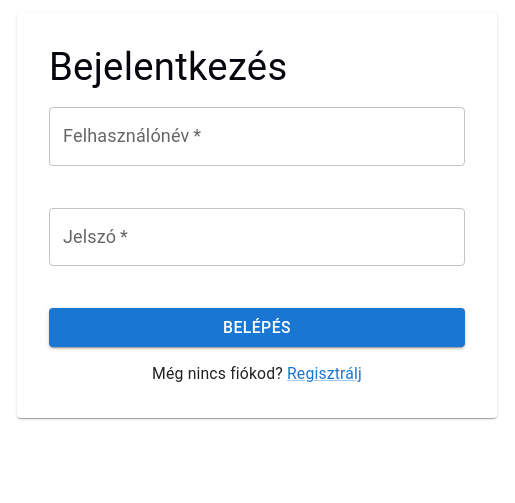
Test: Login oldal › üres error message esetén alapértelmezett hibaüzenetet jelenít meg
In the field named "username": [257, 137] box [49,107,465,166], type "wronguser"
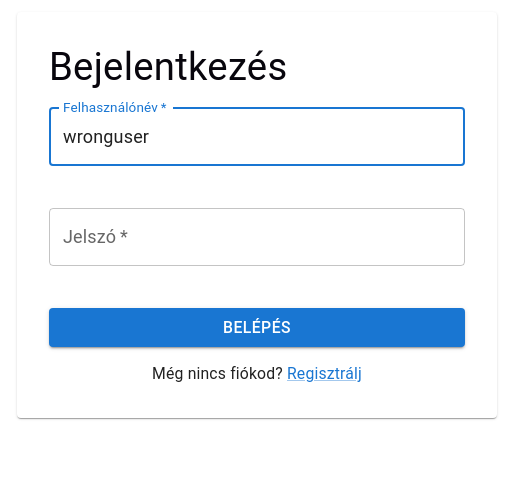
In the password field named "password": [257, 237] box [49,208,465,266], type "wrongpass"
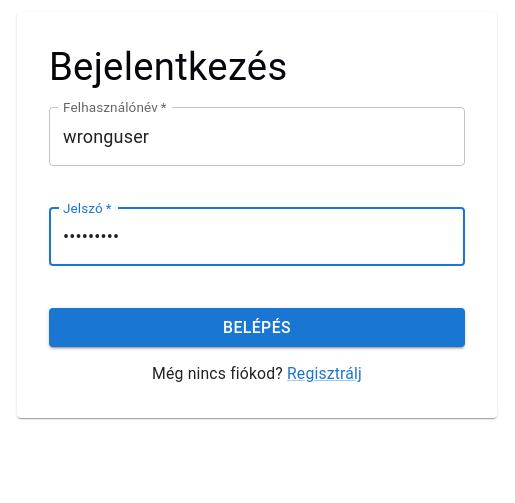
Click the button "Belépés": [257, 328] box [49,308,465,347]
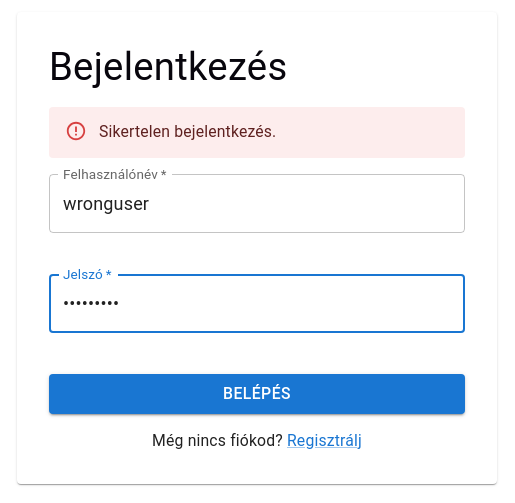
Check: the text "Sikertelen bejelentkezés." is shown, box [99,122,276,141]
